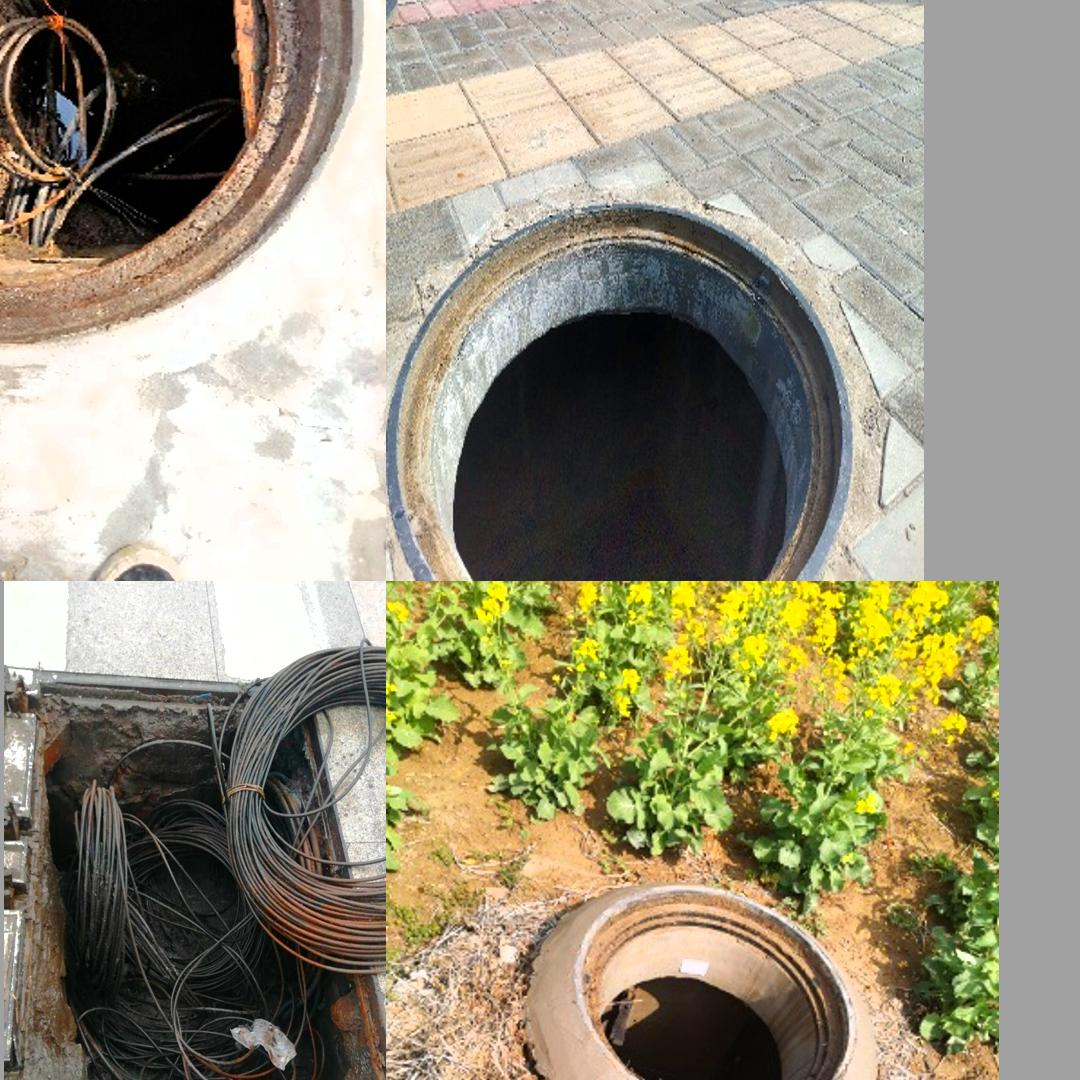lose: (386, 200, 849, 575), (12, 664, 376, 1080), (0, 0, 362, 347), (504, 889, 876, 1080)
